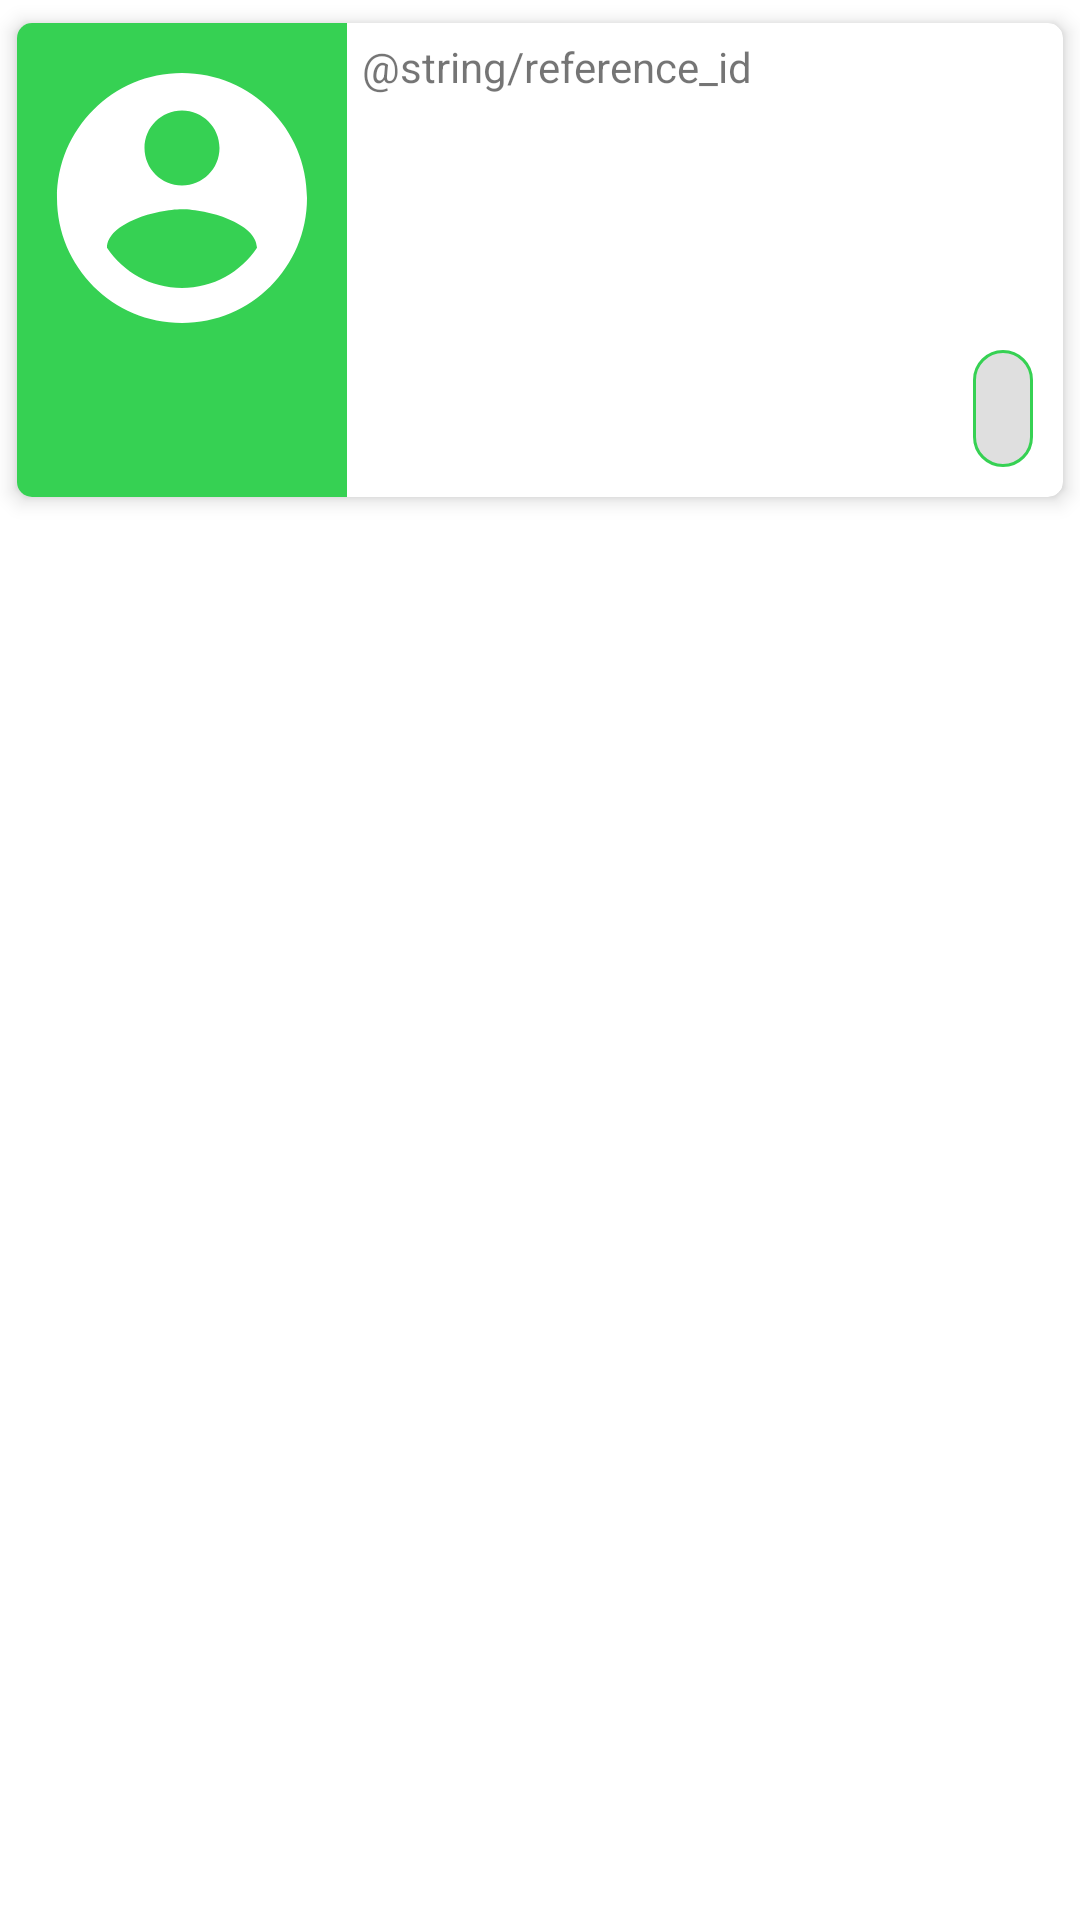

Where to tap for icons on this 1080 × 1920 app screen, as (x,y):
User Profile: (182,198)
